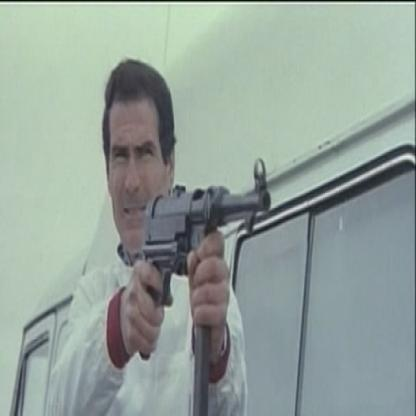gun: (136, 167, 276, 415)
